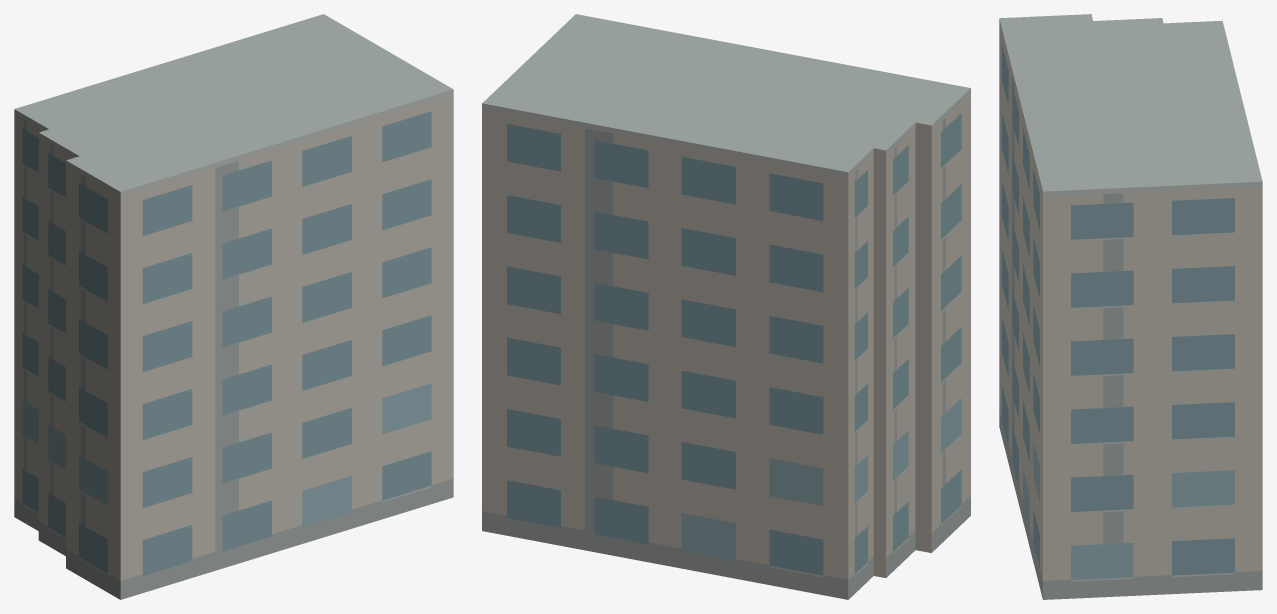
Rendered from survey-upis-32563911.glb.
3 renders of one model, left to right at view 1: azimuth 30°, elevation 25°; view 2: azimuth 150°, elevation 25°; view 3: azimuth 270°, elevation 25°, orthographic. The views are drawn at different scales.
Parts seen in each view (by area): view 1: survey-upis-32563911.tmp; view 2: survey-upis-32563911.tmp; view 3: survey-upis-32563911.tmp.
Part boxes in pixels (x1,y1,x2,y2): survey-upis-32563911.tmp: (14, 14, 453, 599); survey-upis-32563911.tmp: (482, 14, 970, 599); survey-upis-32563911.tmp: (999, 14, 1262, 599).
Bounding box in the file's own units: 17.07 × 18.3 × 10.7.
